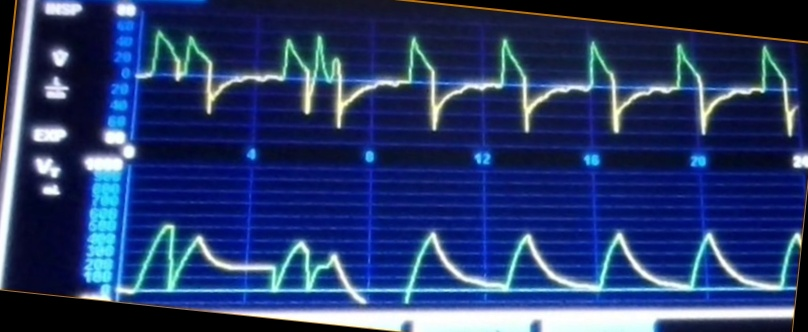Double_Triggering Flow: (140, 24, 792, 139)
Double_Triggering Volume: (122, 219, 794, 306)
